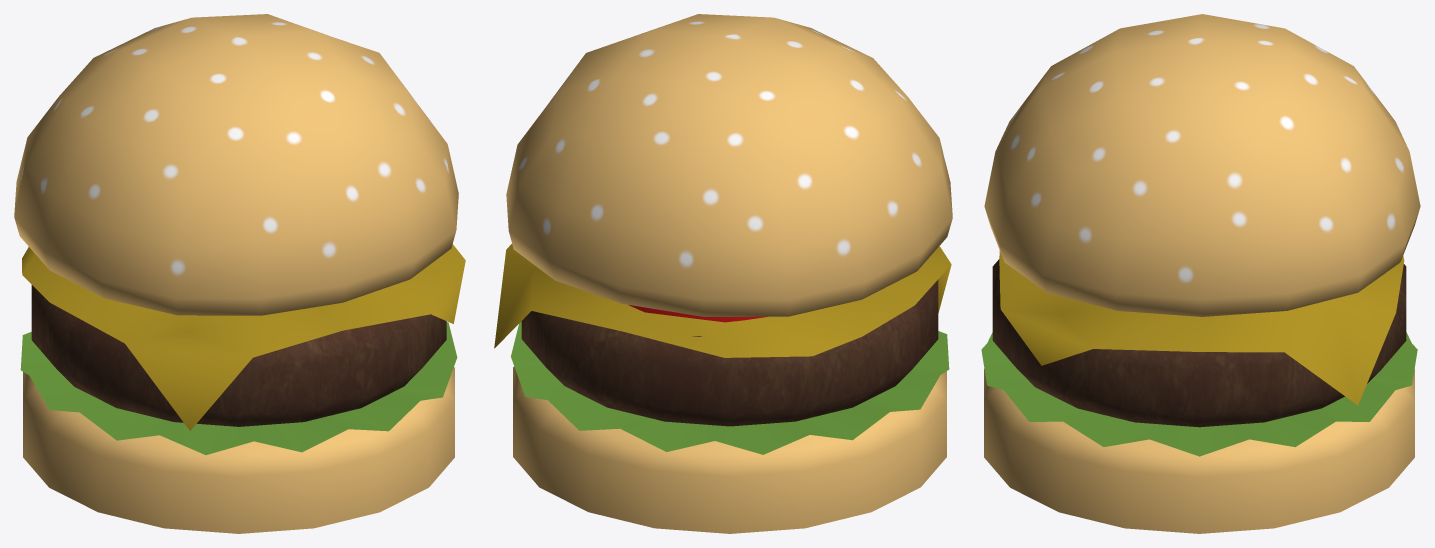
Rendered from oBurger.fbx.
3 views of the same model, side by side, from view 1: azimuth 30°, elevation 25°; view 2: azimuth 150°, elevation 25°; view 3: azimuth 270°, elevation 25° (orthographic).
Visible parts, largest first — view 1: burger; view 2: burger; view 3: burger.
Part boxes in pixels (left/top/right/bottom): burger: left=14, top=14, right=465, bottom=533; burger: left=494, top=14, right=952, bottom=533; burger: left=981, top=14, right=1420, bottom=533.
Bounding box in the file's own units: 24.7 × 24.79 × 24.57.
